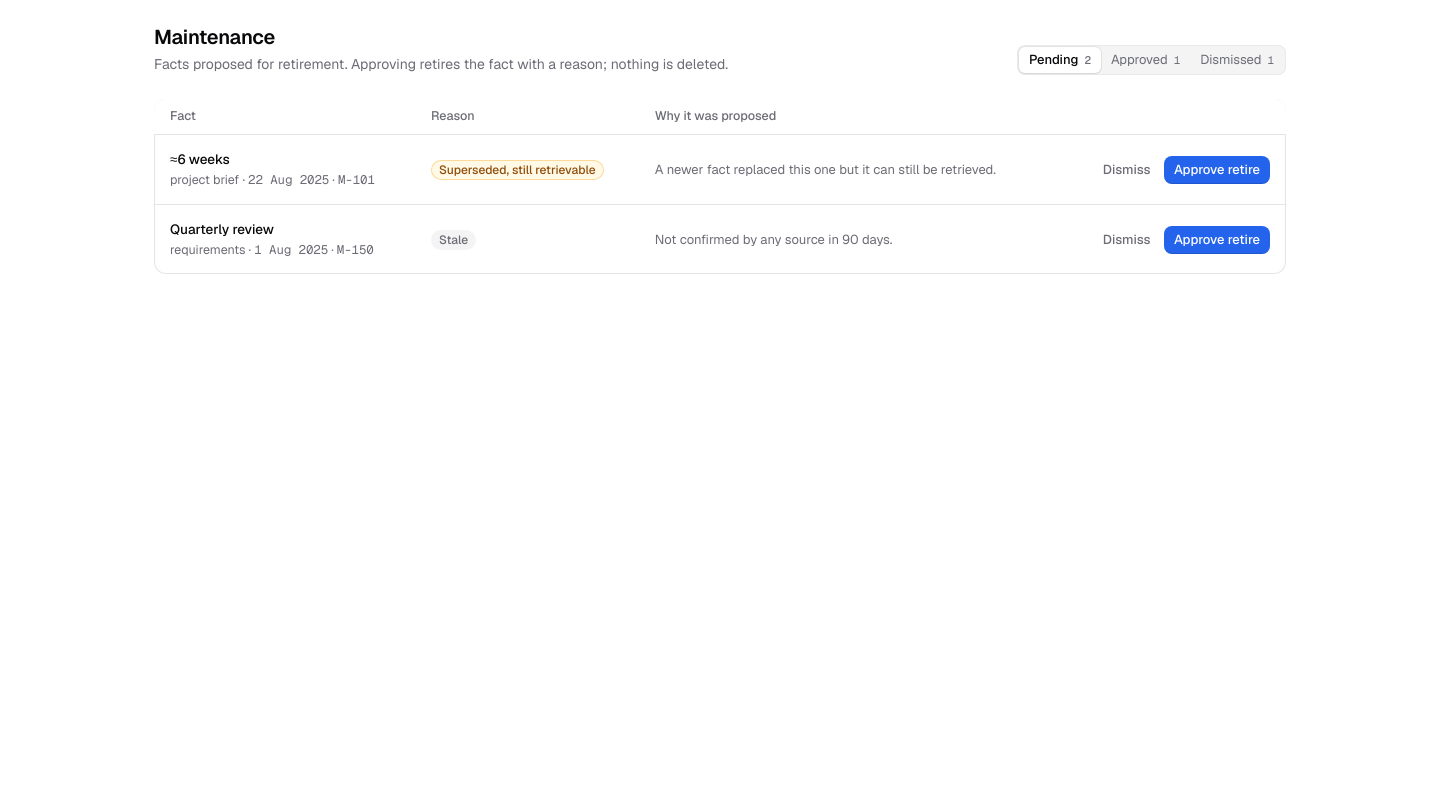
it: Maintenance › deciding › offers Undo in the toast for the events an approval created
Check: the text "≈6 weeks" is shown, box [170,150,230,168]
Click the button "Approve retire" in the row of "Superseded, still retrievable".
click(1217, 170)  # box [1164,156,1270,184]
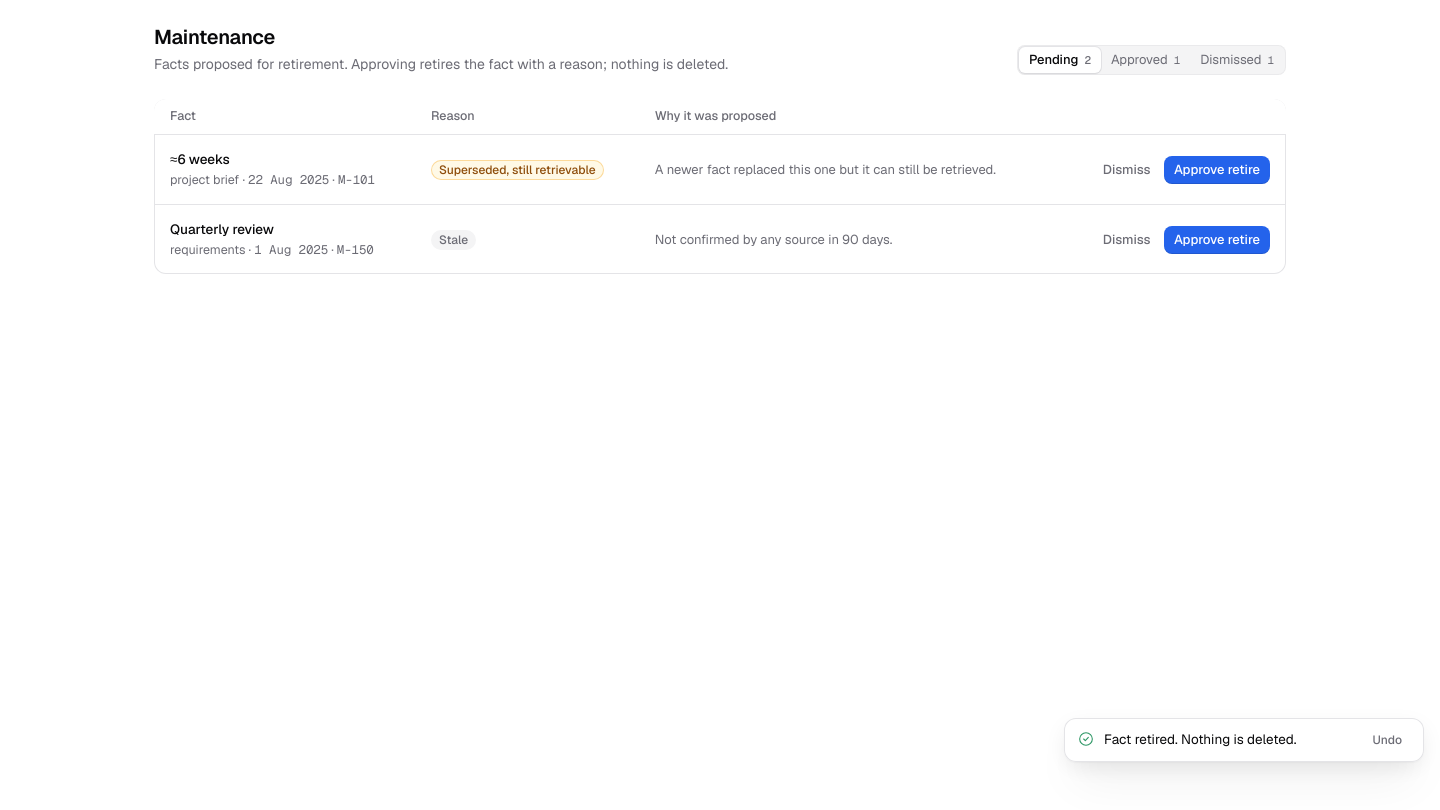
Click the button "Undo".
click(1387, 740)  # box [1364,728,1410,752]
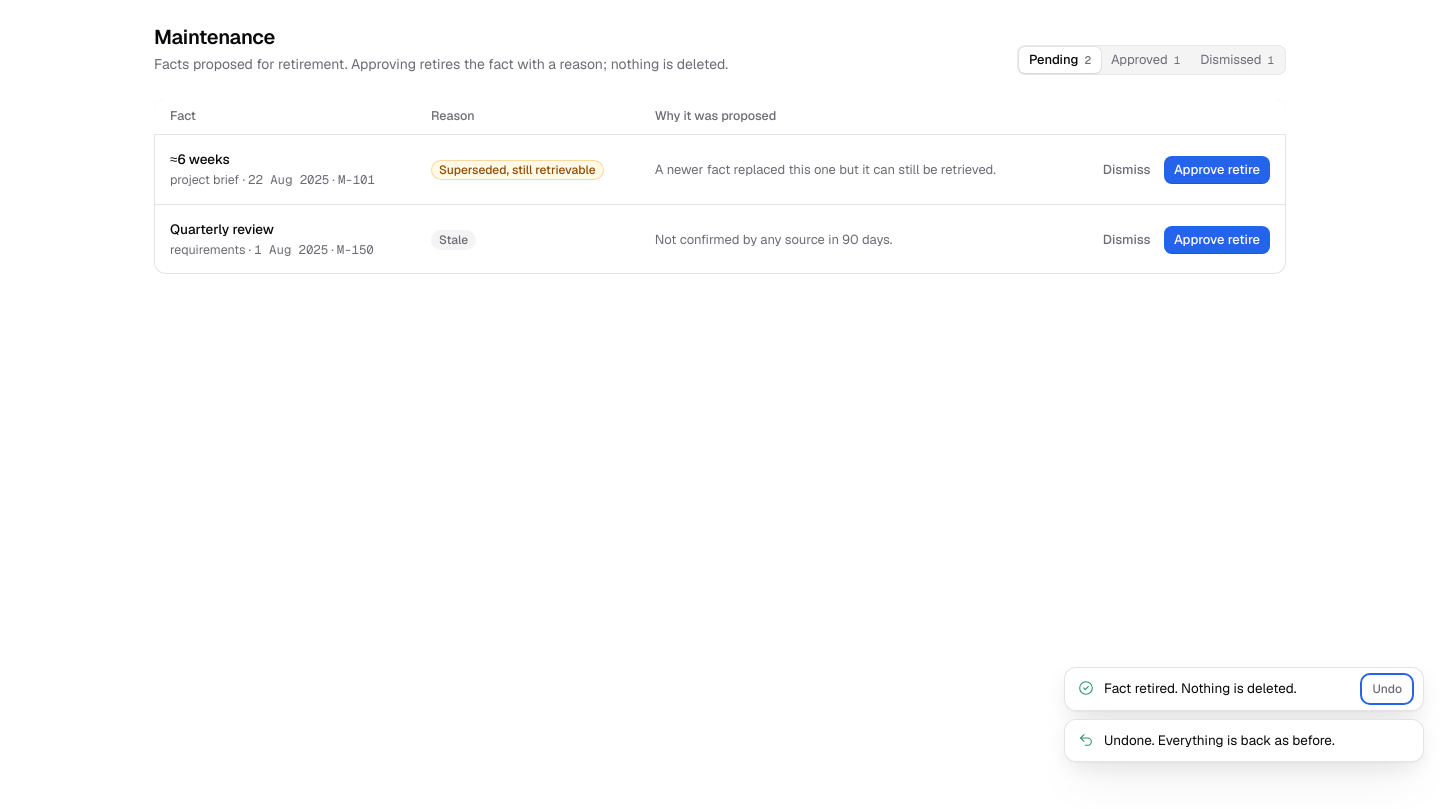
Check: the text "Undone. Everything is back as before." is shown, box [1104,731,1335,749]
